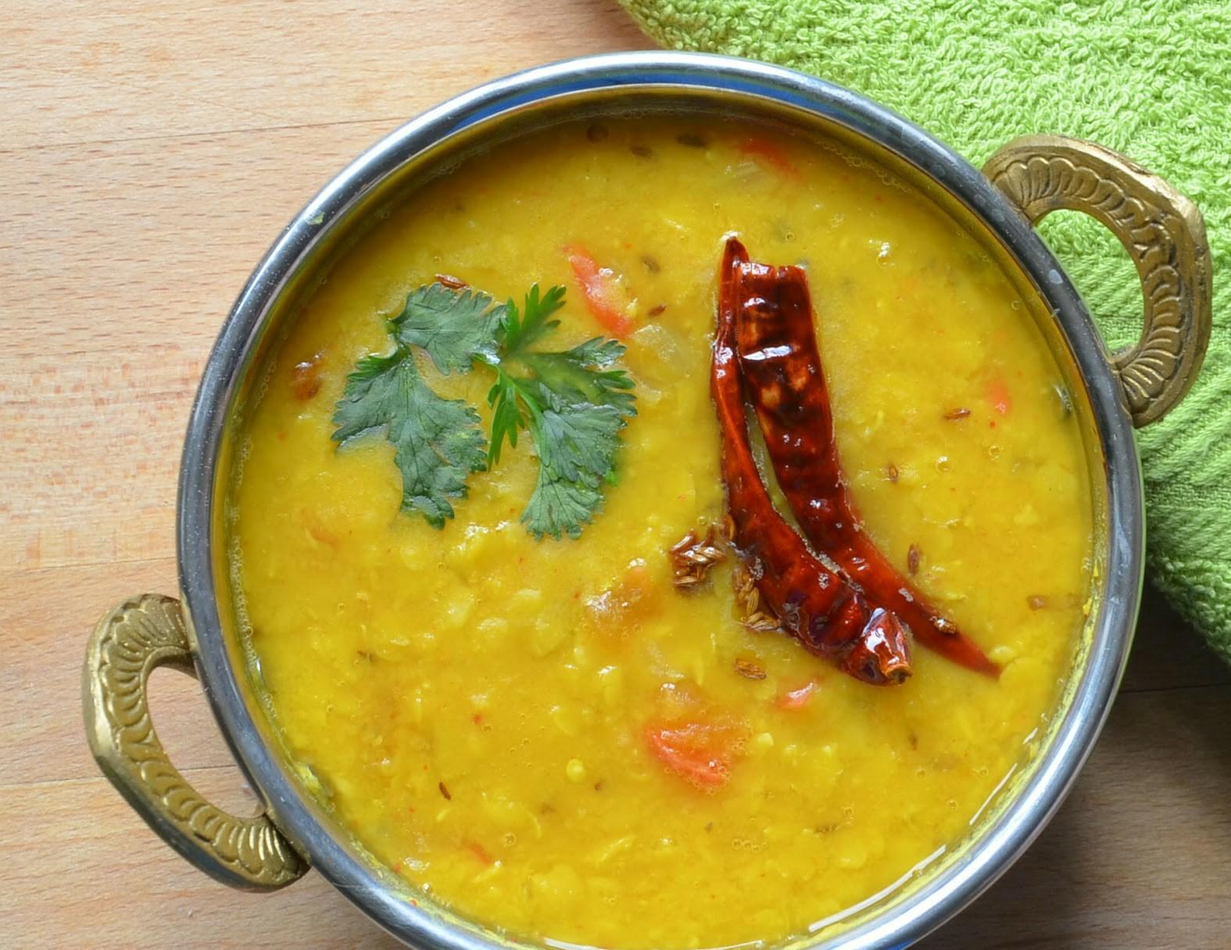Dal: (241, 118, 1085, 950)
